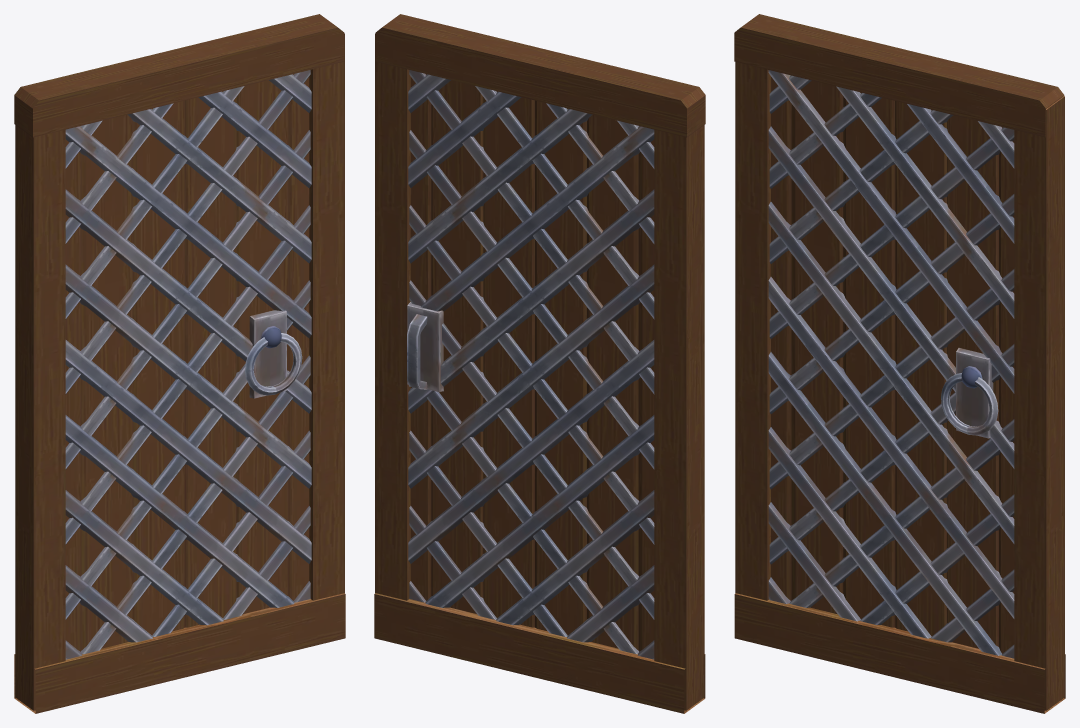
The model's file is mv_door_braced.glb.
The picture shows the model from 3 angles, left to right: view 1: azimuth 30°, elevation 25°; view 2: azimuth 150°, elevation 25°; view 3: azimuth 330°, elevation 25°; orthographic projection.
Parts seen in each view (by area): view 1: Door_4_Flat; view 2: Door_4_Flat; view 3: Door_4_Flat.
Boxes of the visible parts, x1,y1,x2,y2 form: Door_4_Flat: (14,14,345,713); Door_4_Flat: (374,14,705,713); Door_4_Flat: (734,14,1065,713).
Size of the model in its own units: 1.12 by 2.09 by 0.2094.
Materials: 2 (2 with a texture image).
